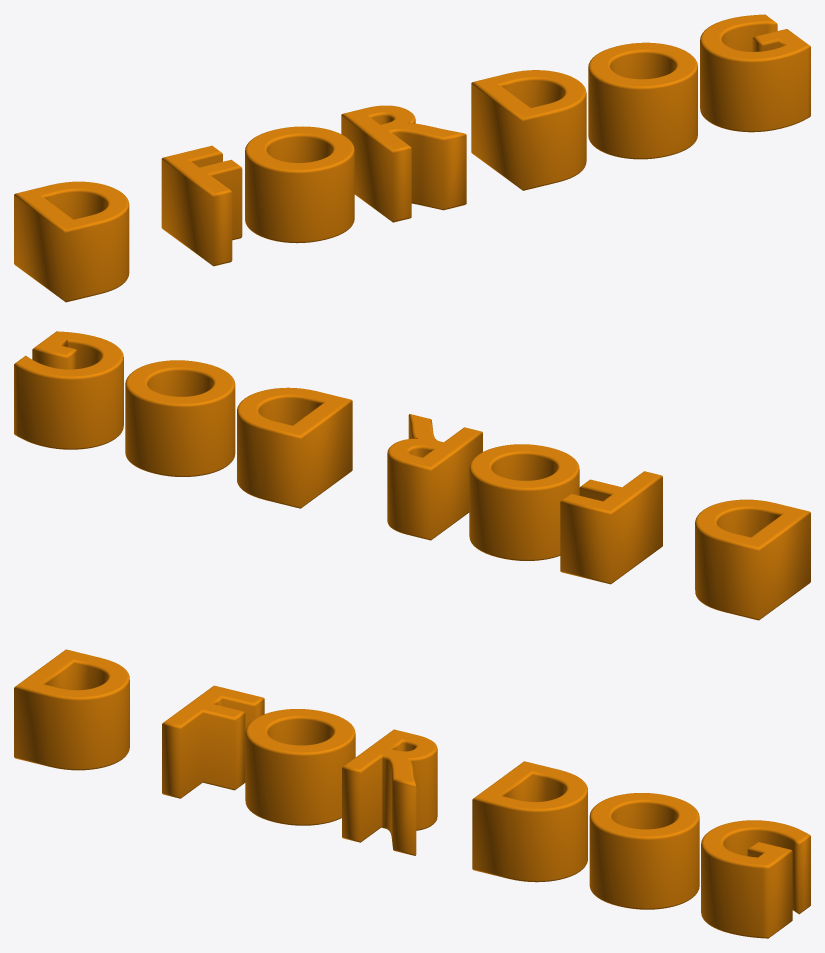
The model's file is DOGTEXT.fbx.
3 views of the same model, one above another, from view 1: azimuth 30°, elevation 25°; view 2: azimuth 150°, elevation 25°; view 3: azimuth 330°, elevation 25° (orthographic).
Visible parts, largest first — view 1: Text.001; view 2: Text.001; view 3: Text.001.
Boxes of the visible parts, x1,y1,x2,y2 form: Text.001: [14, 14, 810, 302]; Text.001: [14, 331, 810, 620]; Text.001: [14, 649, 810, 938].
Size of the model in its own units: 623 by 58 by 76.01.
